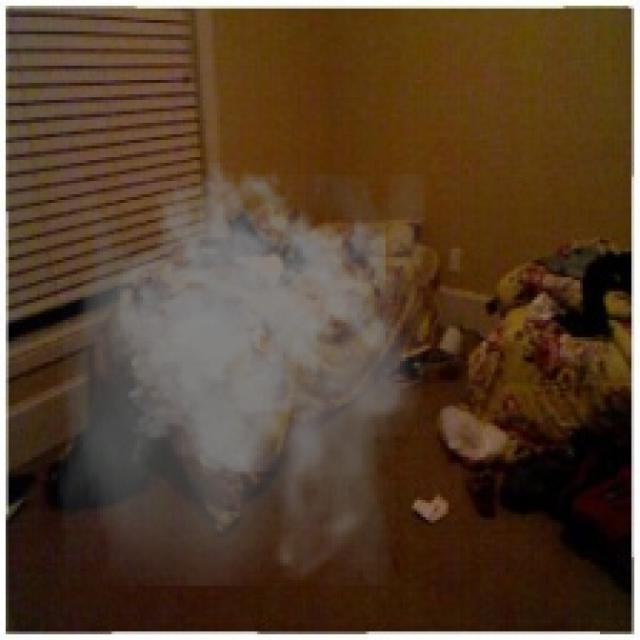smoke: (57, 160, 426, 586)
